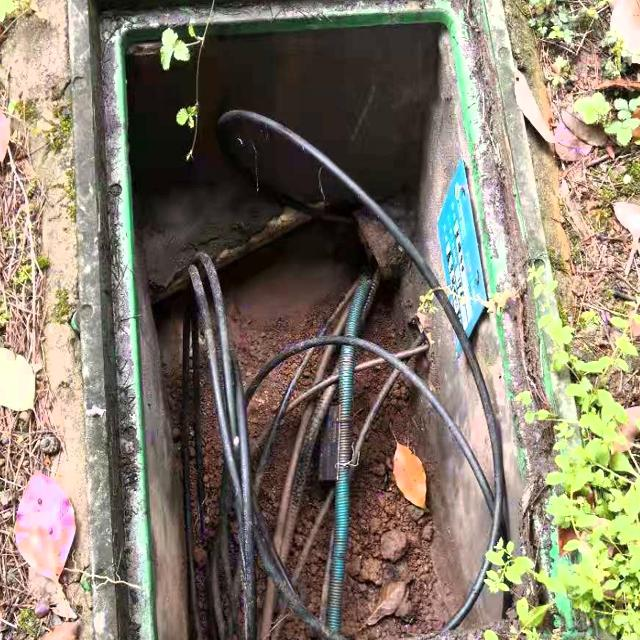lose: (67, 0, 597, 640)
